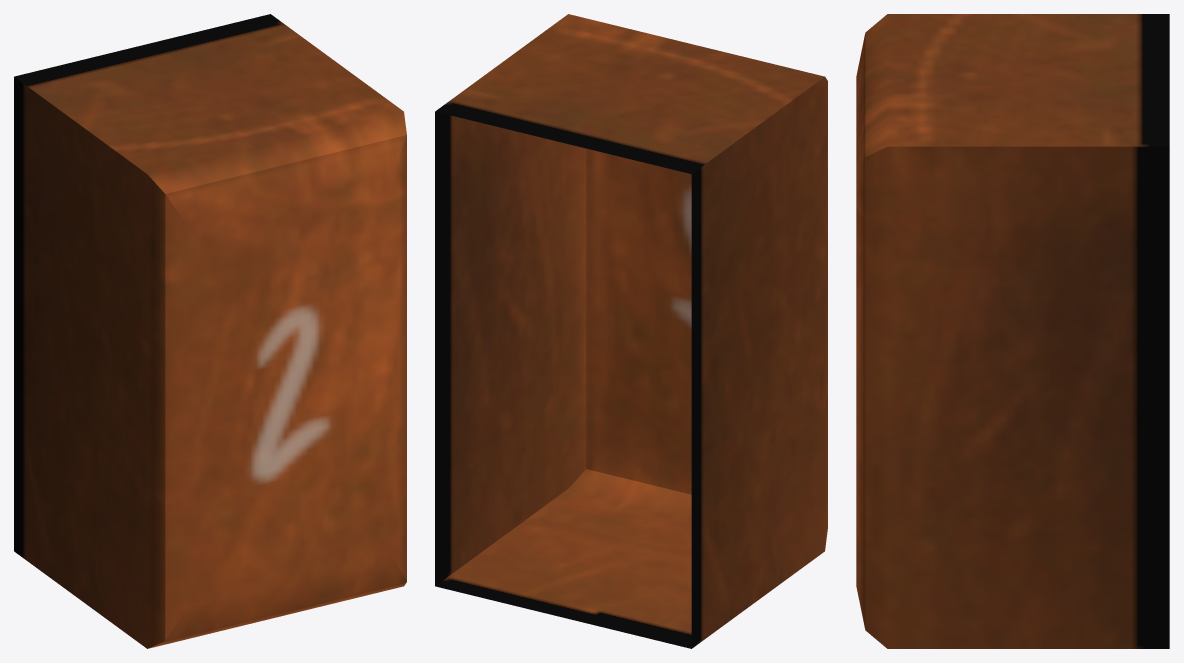
Rendered from radio_button2.fbx.
The picture shows the model from 3 angles, left to right: view 1: azimuth 30°, elevation 25°; view 2: azimuth 150°, elevation 25°; view 3: azimuth 270°, elevation 25°; orthographic projection. The views are drawn at different scales.
Parts seen in each view (by area): view 1: Button2; view 2: Button2; view 3: Button2.
Part boxes in pixels (box(x1,y1,x2,y2)): Button2: box(14, 14, 406, 648); Button2: box(435, 14, 827, 648); Button2: box(856, 14, 1169, 648).
Bounding box in the file's own units: 0.0194 × 0.0343 × 0.0194.
1 material, 1 textured.
